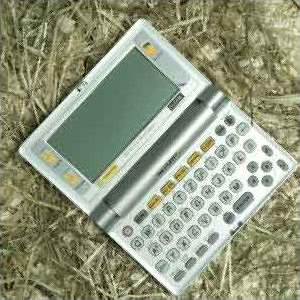handheld: (18, 18, 300, 296)
